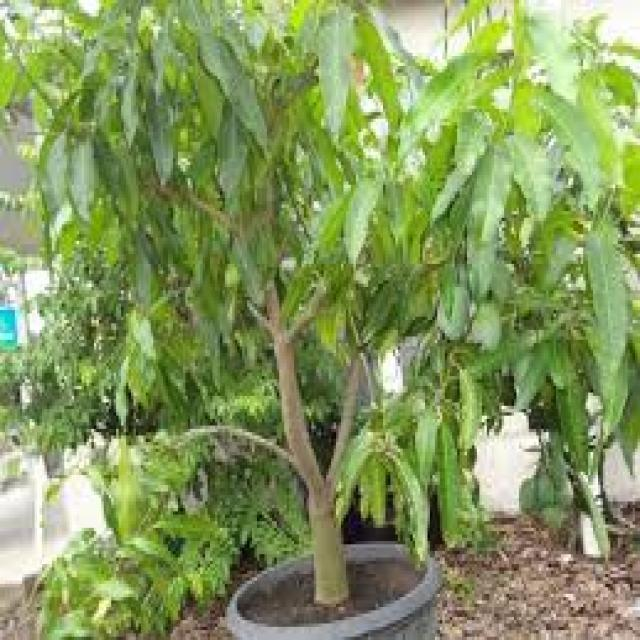Tree: (46, 7, 516, 635)
